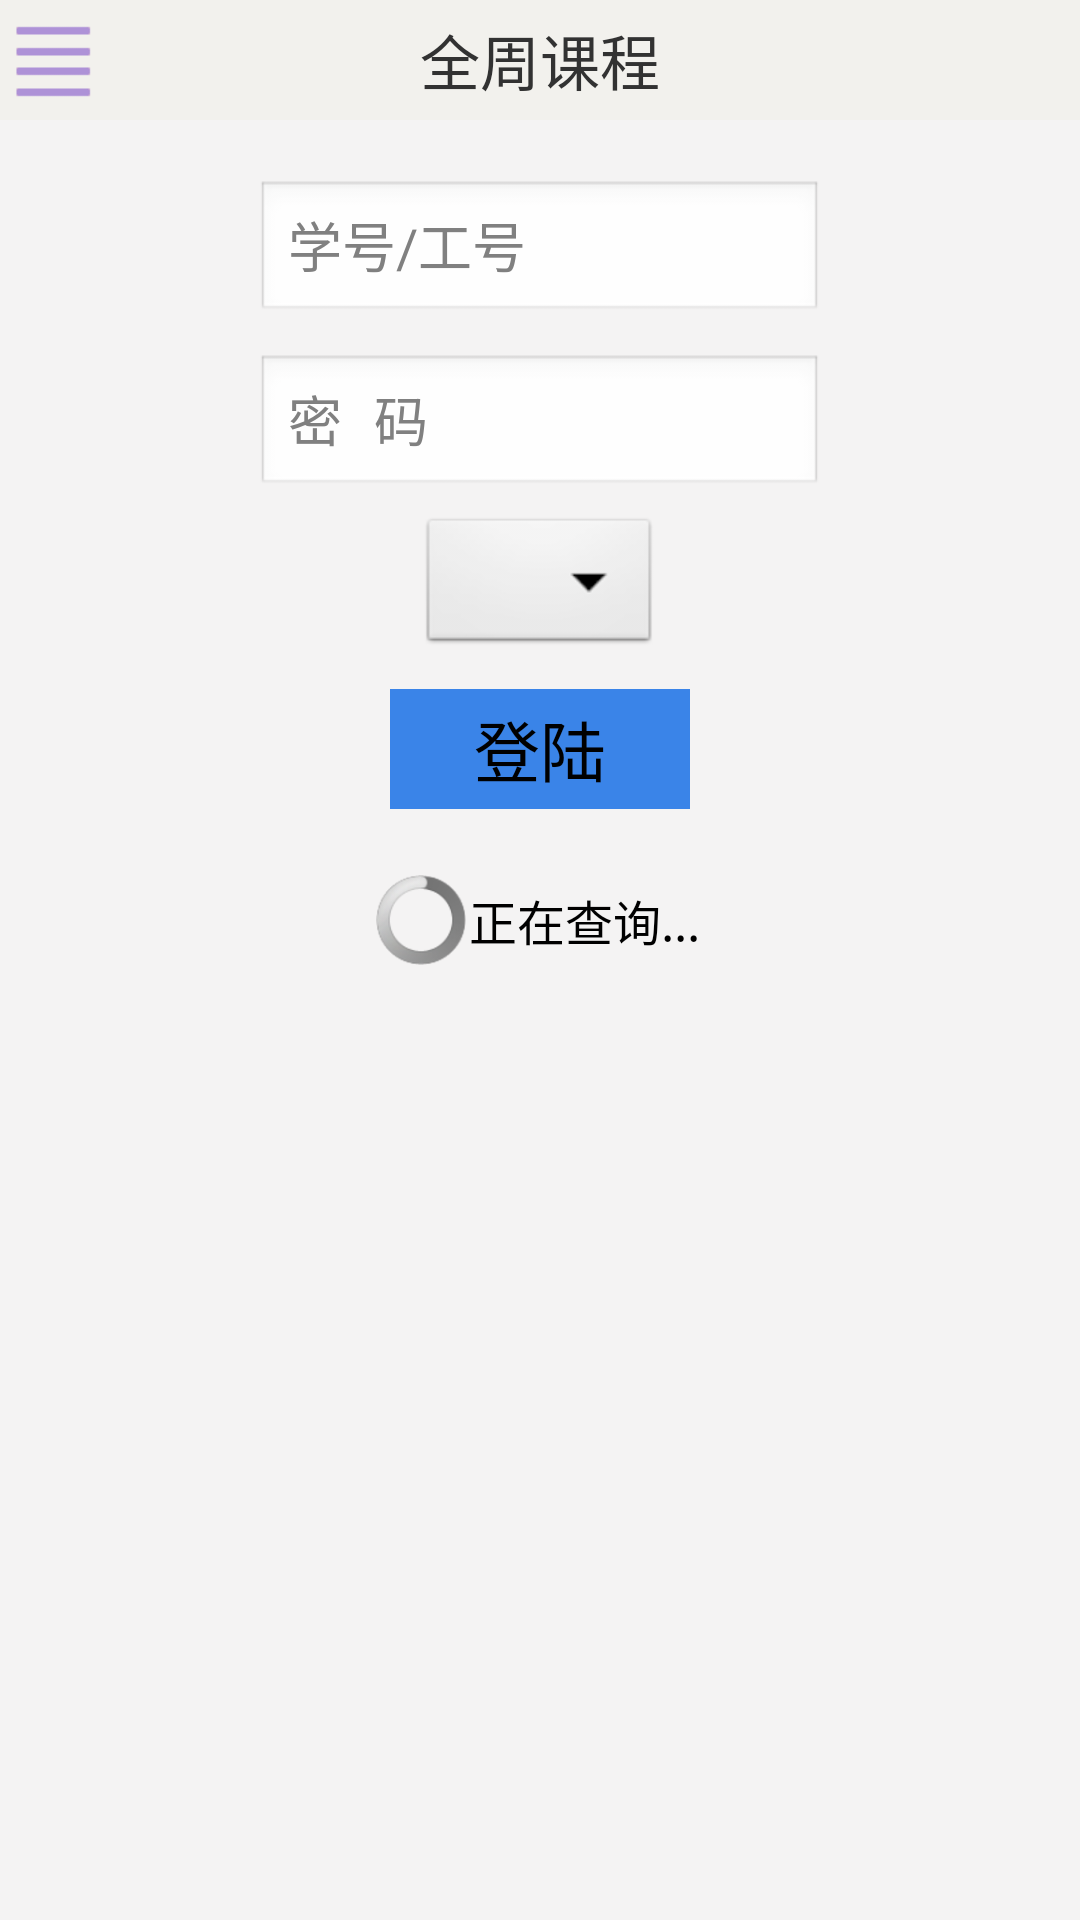

Icon click points for this 1080px x 1920px phone screenshot, format point (x, y):
返回主菜单: point (53, 61)
